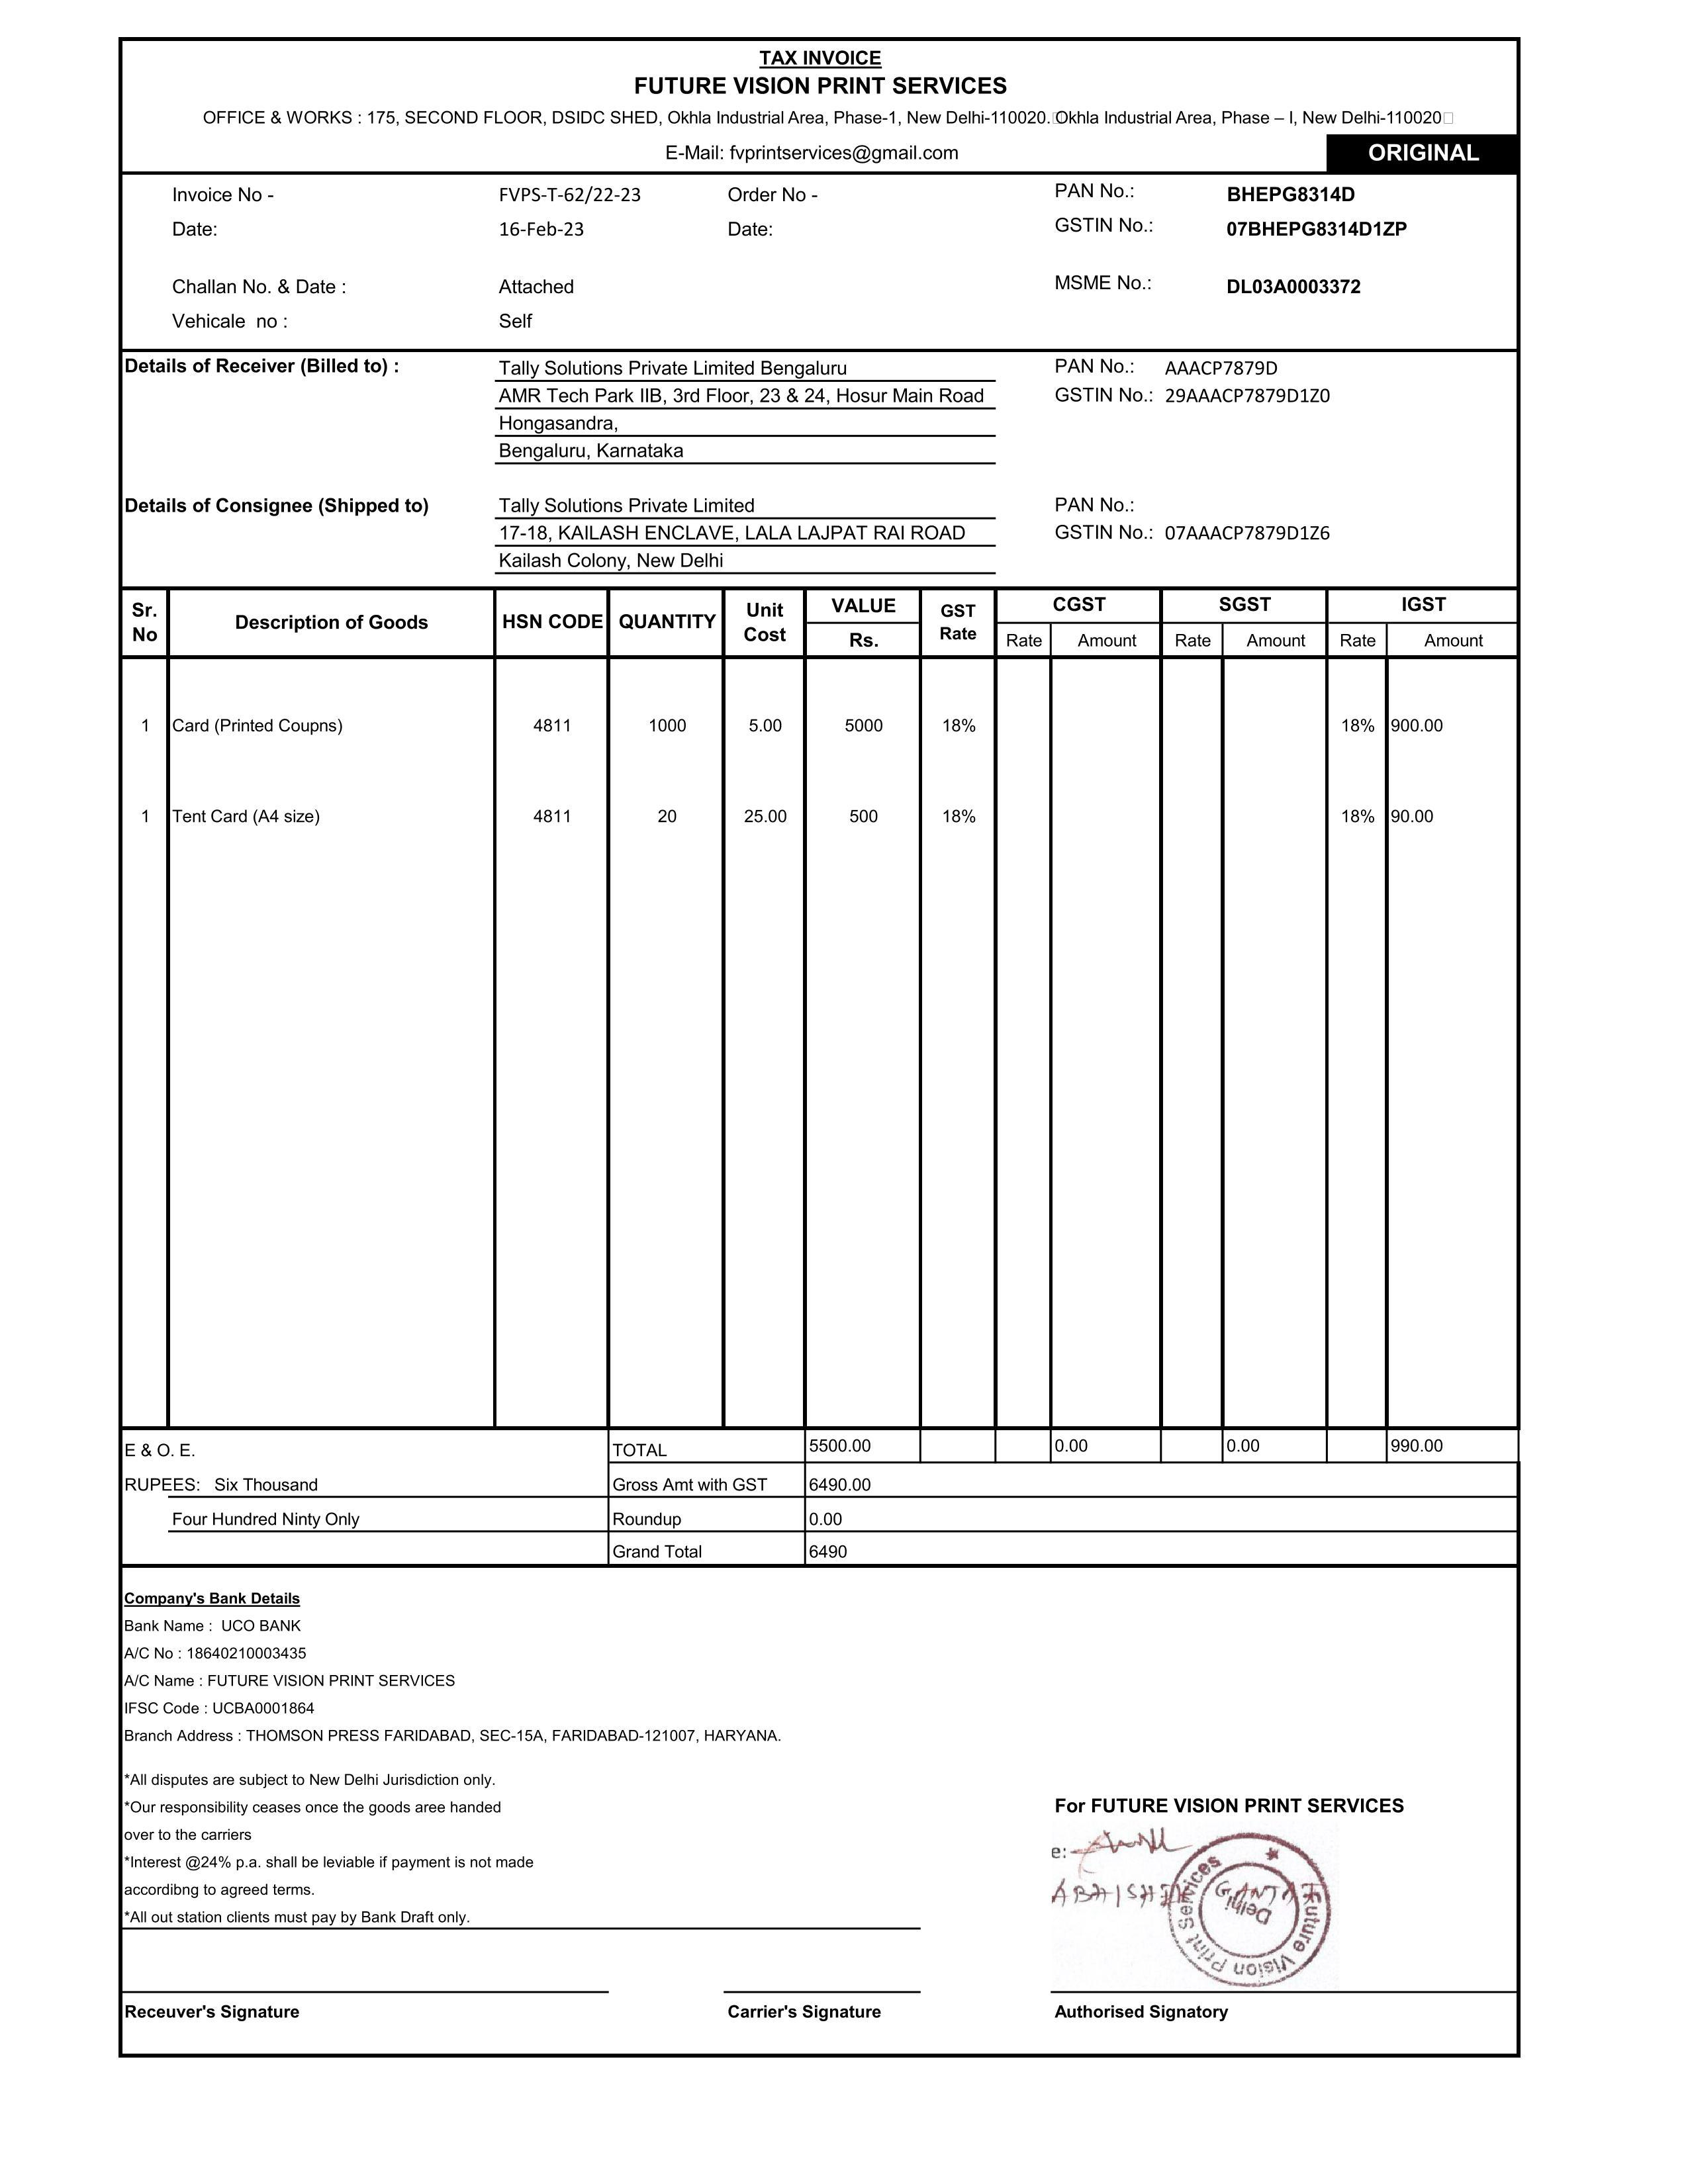InvoiceDate: (502, 225, 592, 241)
InvoiceNumber: (495, 175, 649, 211)
TotalAmount: (805, 1537, 858, 1569)
